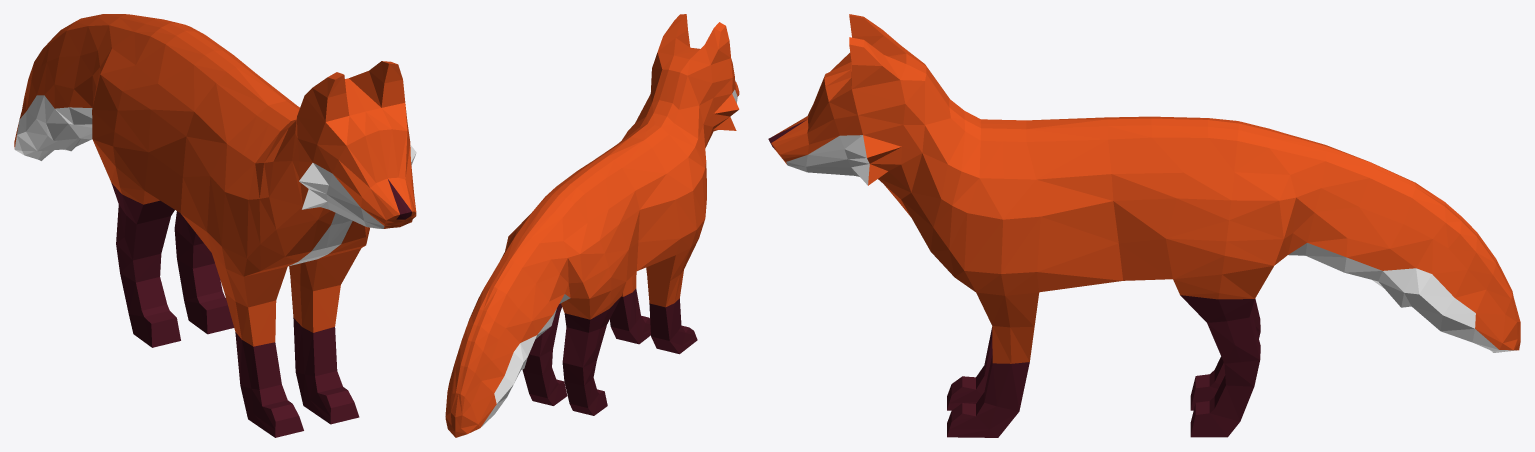
File: FoxLowPoly_v.1.2.fbx
The picture shows the model from 3 angles, left to right: view 1: azimuth 30°, elevation 25°; view 2: azimuth 150°, elevation 25°; view 3: azimuth 270°, elevation 25°; orthographic projection. The views are drawn at different scales.
Parts seen in each view (by area): view 1: Fox_v.2; view 2: Fox_v.2; view 3: Fox_v.2.
Boxes of the visible parts, x1=… form: Fox_v.2: x1=14, y1=14, x2=416, y2=437; Fox_v.2: x1=445, y1=14, x2=739, y2=437; Fox_v.2: x1=768, y1=14, x2=1520, y2=437.
Size of the model in its own units: 76.79 by 212 by 370.
